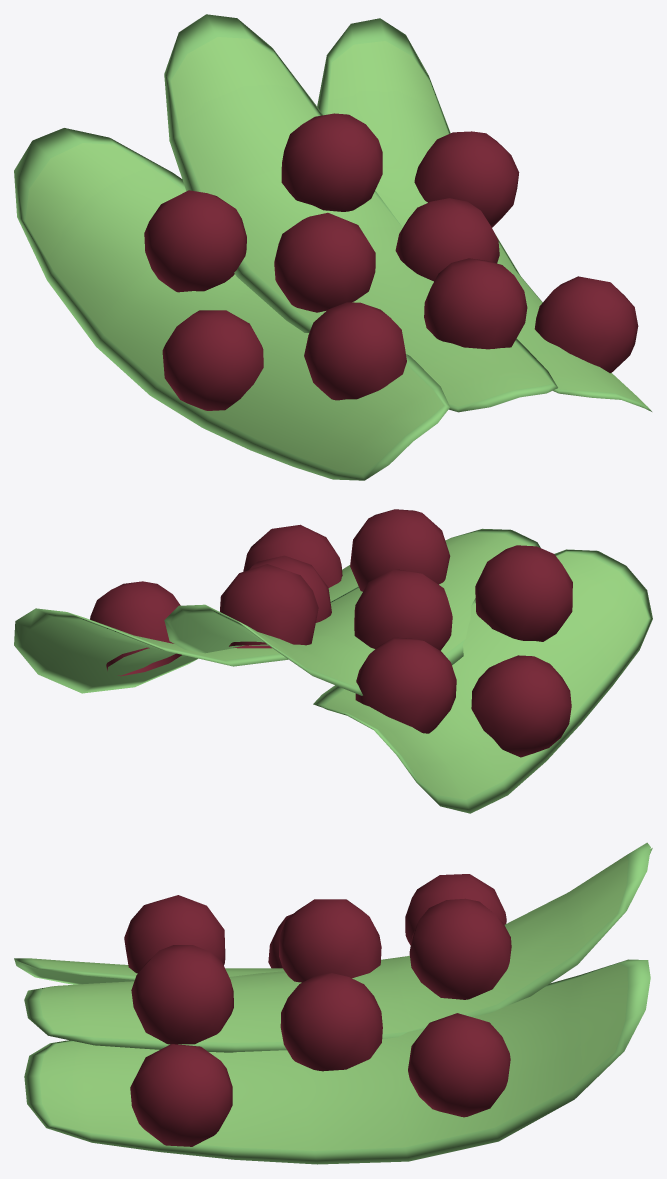
The model's file is DeadMansBlood.fbx.
The picture shows the model from 3 angles, top to bottom: view 1: azimuth 30°, elevation 25°; view 2: azimuth 150°, elevation 25°; view 3: azimuth 270°, elevation 25°; orthographic projection. The views are drawn at different scales.
Parts seen in each view (by area): view 1: DeadMan's Blood; view 2: DeadMan's Blood; view 3: DeadMan's Blood.
Part boxes in pixels (box(x1,y1,x2,y2)): DeadMan's Blood: box(14, 14, 651, 480); DeadMan's Blood: box(14, 509, 652, 813); DeadMan's Blood: box(14, 842, 652, 1164).
Bounding box in the file's own units: 107 × 60.53 × 144.
